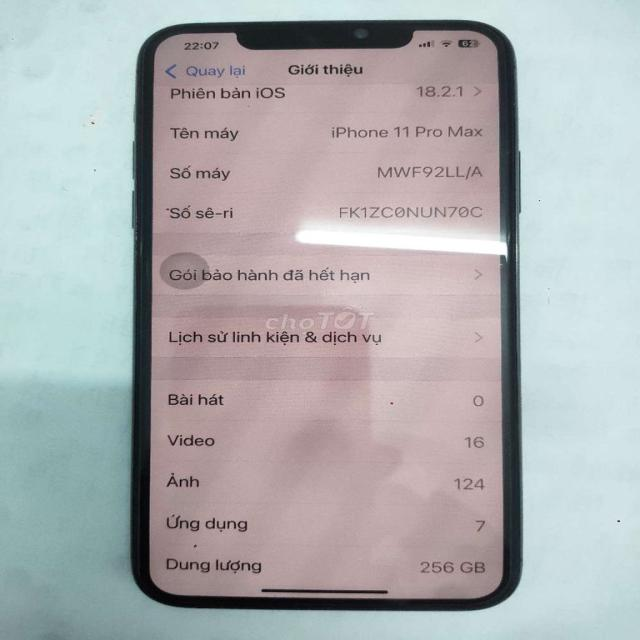gen_11: (106, 11, 518, 626)
